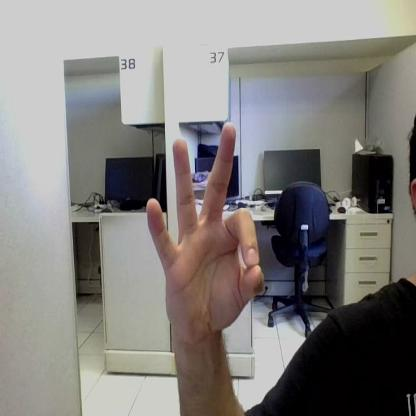F: (147, 123, 262, 327)
